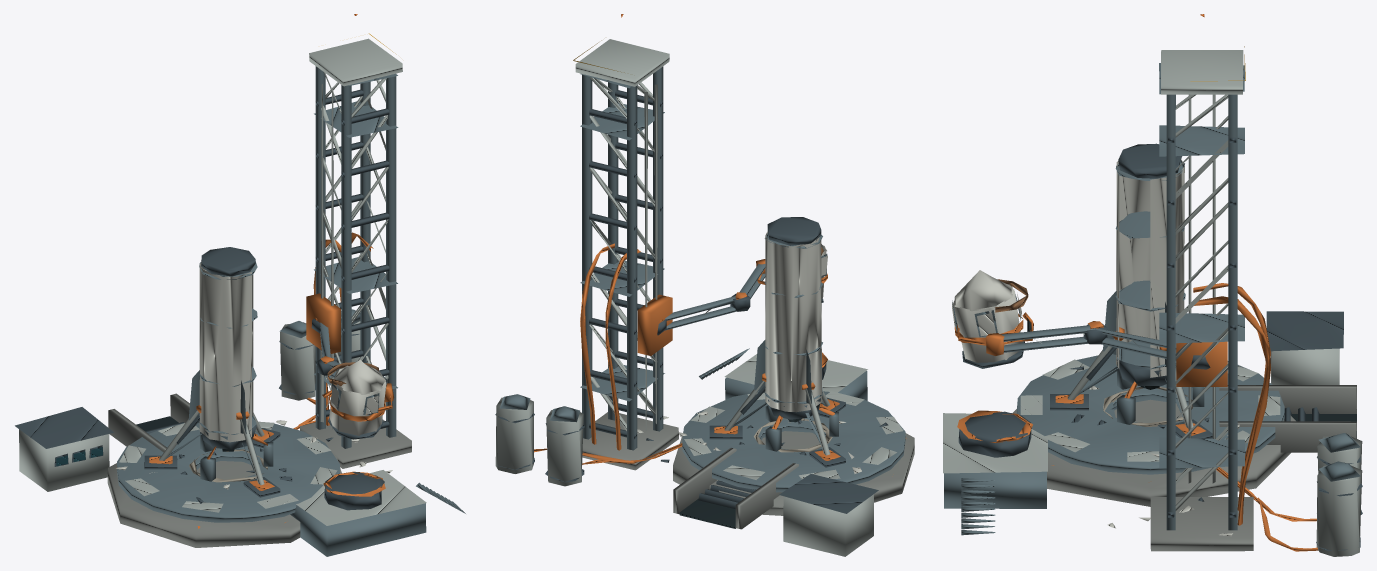
The model's file is hugin_launchpad_d2_lod2.meshopt.glb.
3 renders of one model, left to right at view 1: azimuth 30°, elevation 25°; view 2: azimuth 150°, elevation 25°; view 3: azimuth 270°, elevation 25°, orthographic. The views are drawn at different scales.
Parts seen in each view (by area): view 1: HUGIN_LAUNCHPAD_LOD2_STATIC_GEOMETRY; view 2: HUGIN_LAUNCHPAD_LOD2_STATIC_GEOMETRY; view 3: HUGIN_LAUNCHPAD_LOD2_STATIC_GEOMETRY.
Boxes of the visible parts, x1,y1,x2,y2 form: HUGIN_LAUNCHPAD_LOD2_STATIC_GEOMETRY: (15,14,465,556); HUGIN_LAUNCHPAD_LOD2_STATIC_GEOMETRY: (495,14,914,556); HUGIN_LAUNCHPAD_LOD2_STATIC_GEOMETRY: (943,14,1362,556).
Size of the model in its own units: 28.13 by 33.1 by 24.38.
